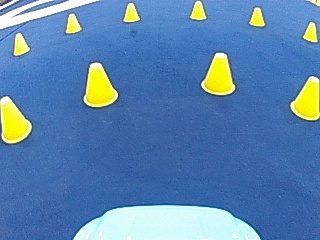cone: (82, 60, 118, 106), (200, 50, 236, 94), (0, 95, 32, 142), (289, 75, 320, 119), (12, 32, 30, 55), (122, 1, 140, 22), (64, 12, 82, 33), (301, 20, 318, 42), (189, 0, 207, 20), (248, 6, 265, 26)
